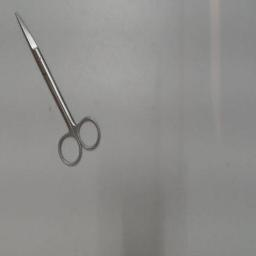Curved Mayo Scissors: (12, 8, 104, 172)
